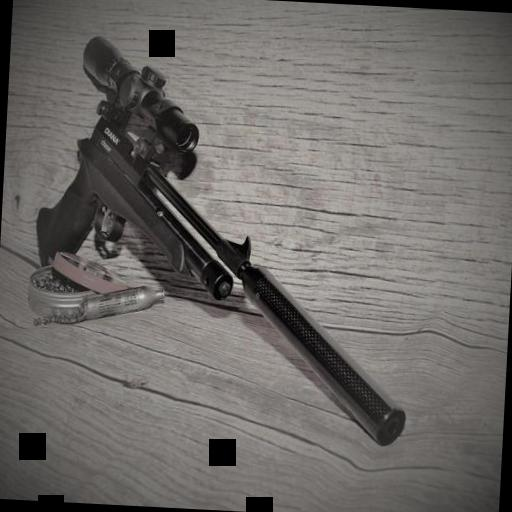Handgun: (18, 18, 434, 450)
